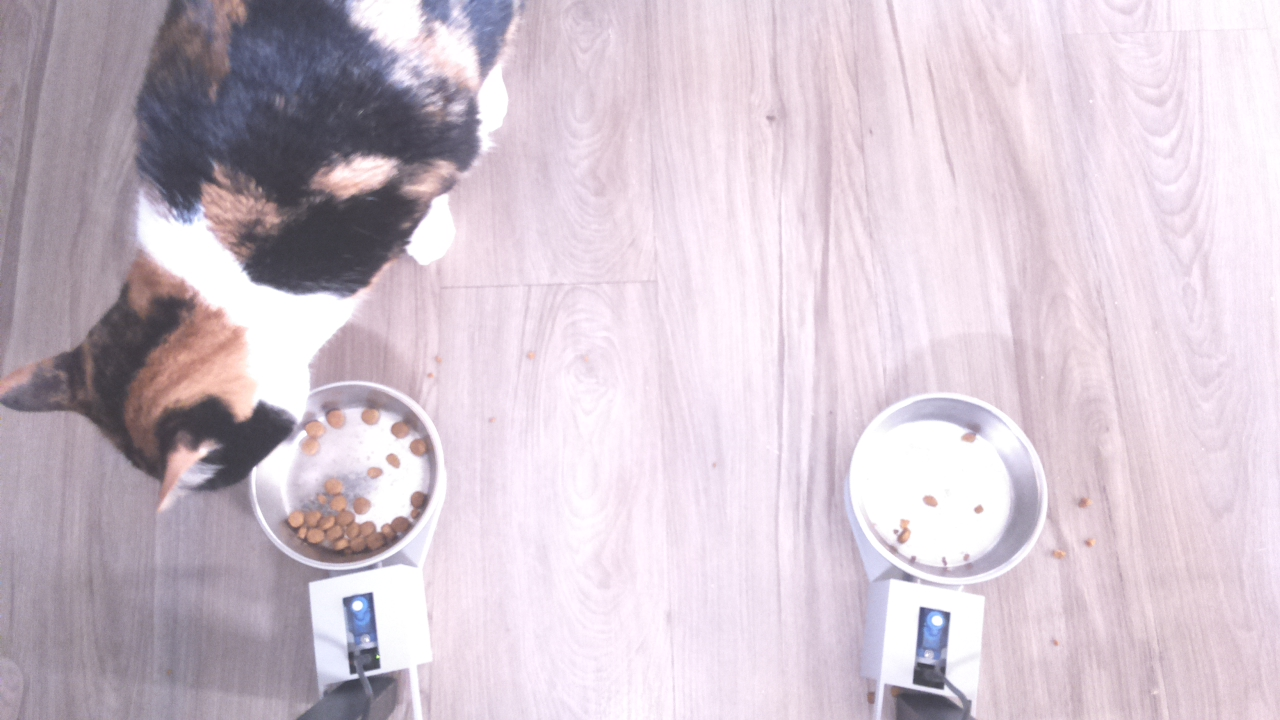bella: (1, 251, 339, 512)
open_bowl: (844, 389, 1052, 589), (251, 377, 456, 577)
